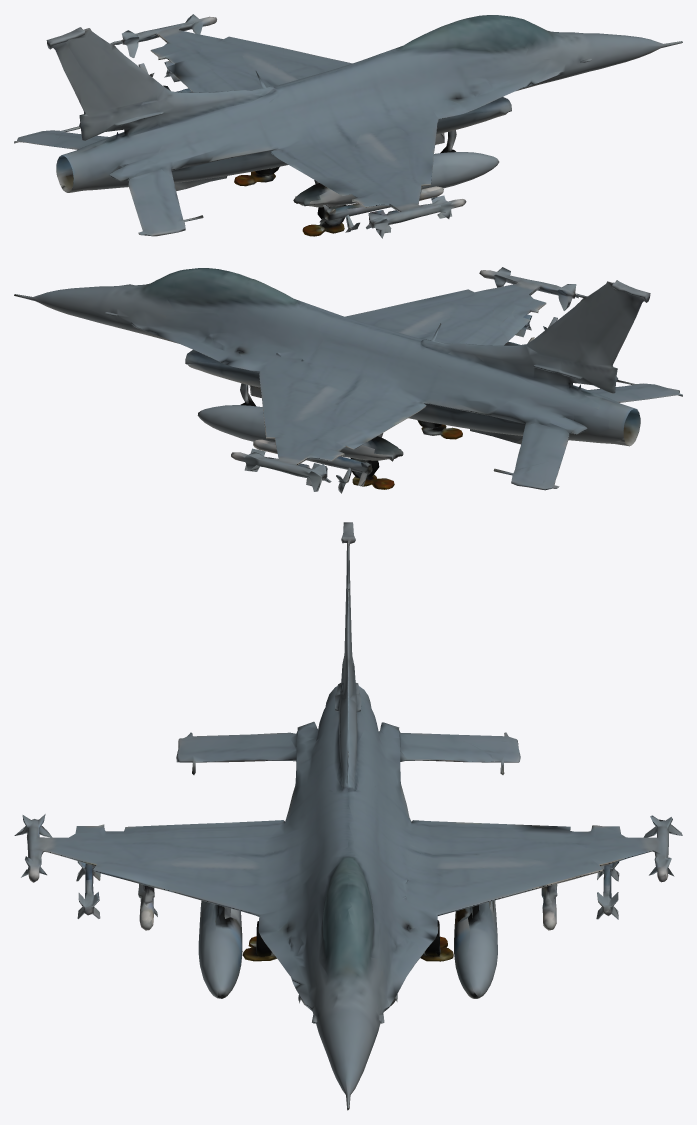
Rendered from jet_tempur.glb.
3 renders of one model, top to bottom at view 1: azimuth 30°, elevation 25°; view 2: azimuth 150°, elevation 25°; view 3: azimuth 270°, elevation 25°, orthographic. The views are drawn at different scales.
Visible parts, largest first — view 1: tripo_node_9caf1281; view 2: tripo_node_9caf1281; view 3: tripo_node_9caf1281.
Boxes of the visible parts, x1,y1,x2,y2 form: tripo_node_9caf1281: (14,14,682,238); tripo_node_9caf1281: (14,267,682,493); tripo_node_9caf1281: (14,522,682,1110).
Size of the model in its own units: 99.99 by 34.55 by 72.31.
1 material, 1 textured.
